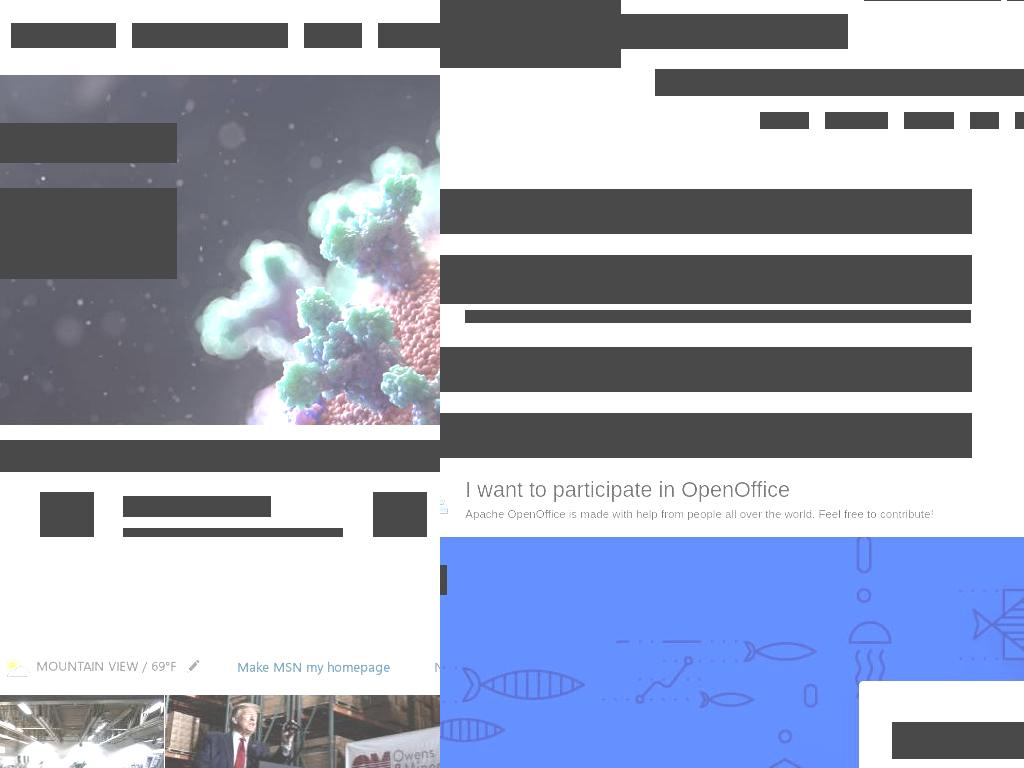button: (440, 255, 972, 304), (440, 189, 972, 234), (440, 347, 972, 392), (440, 413, 972, 458), (440, 479, 972, 524), (164, 695, 440, 768), (132, 23, 288, 48), (11, 23, 116, 48), (35, 657, 176, 674), (378, 23, 440, 48), (304, 23, 362, 48), (40, 514, 94, 537), (373, 514, 427, 537), (825, 112, 888, 129), (904, 112, 954, 129), (760, 112, 809, 129), (970, 112, 999, 129), (185, 657, 204, 676), (1015, 112, 1024, 129)
heading: (0, 440, 440, 472), (465, 189, 972, 212), (465, 255, 972, 278), (465, 347, 972, 370), (465, 413, 972, 436), (465, 479, 972, 502), (0, 123, 177, 163), (892, 722, 1024, 759), (123, 496, 271, 517), (236, 658, 390, 675)
iframe: (0, 544, 440, 634)
image: (164, 695, 440, 768), (440, 0, 621, 68), (40, 492, 94, 537), (373, 492, 427, 537), (1, 652, 32, 682)
link: (465, 282, 972, 304), (655, 69, 1024, 96), (465, 216, 972, 234), (465, 374, 972, 392), (465, 440, 972, 458), (465, 506, 972, 524), (794, 310, 968, 323), (662, 310, 787, 323)
text: (0, 188, 177, 279), (621, 14, 848, 49), (465, 310, 663, 323), (35, 657, 151, 674), (123, 528, 232, 537), (231, 528, 282, 537), (150, 657, 176, 674), (785, 310, 795, 323), (967, 310, 971, 323)
